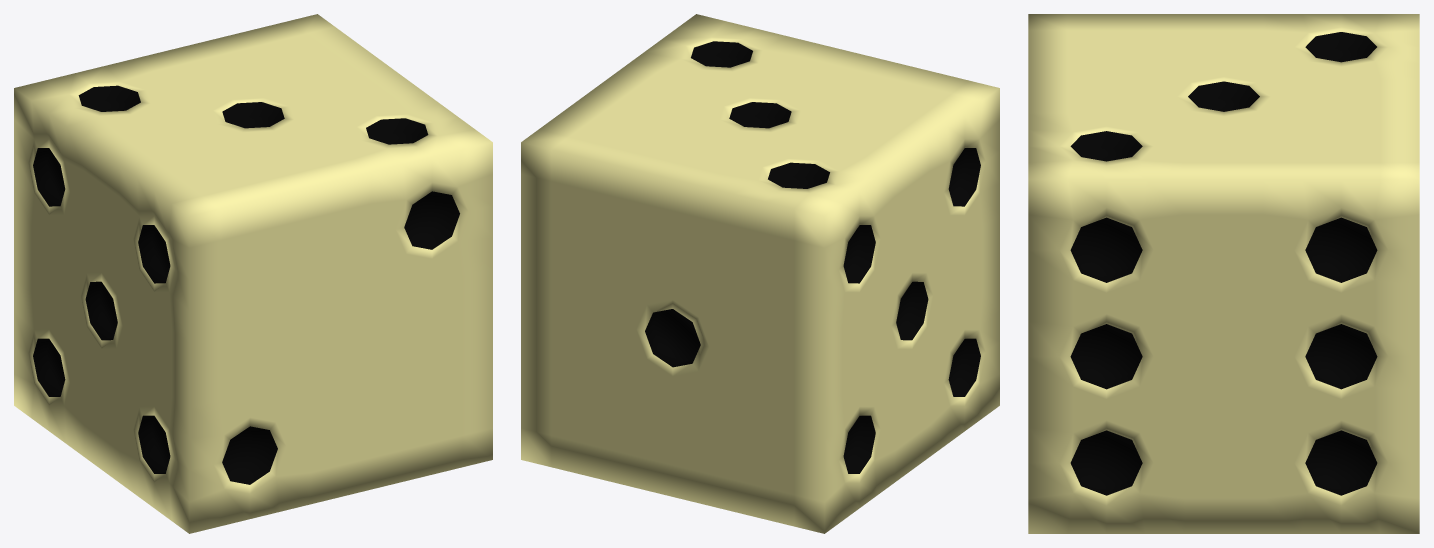
The model's file is dice.glb.
3 views of the same model, side by side, from view 1: azimuth 30°, elevation 25°; view 2: azimuth 150°, elevation 25°; view 3: azimuth 270°, elevation 25° (orthographic). The views are drawn at different scales.
Parts seen in each view (by area): view 1: Куб; view 2: Куб; view 3: Куб.
Boxes of the visible parts, bbox=[...] form: Куб: bbox=[14, 14, 492, 533]; Куб: bbox=[521, 14, 999, 533]; Куб: bbox=[1028, 14, 1419, 533].
Bounding box in the file's own units: 2 × 2 × 2.
